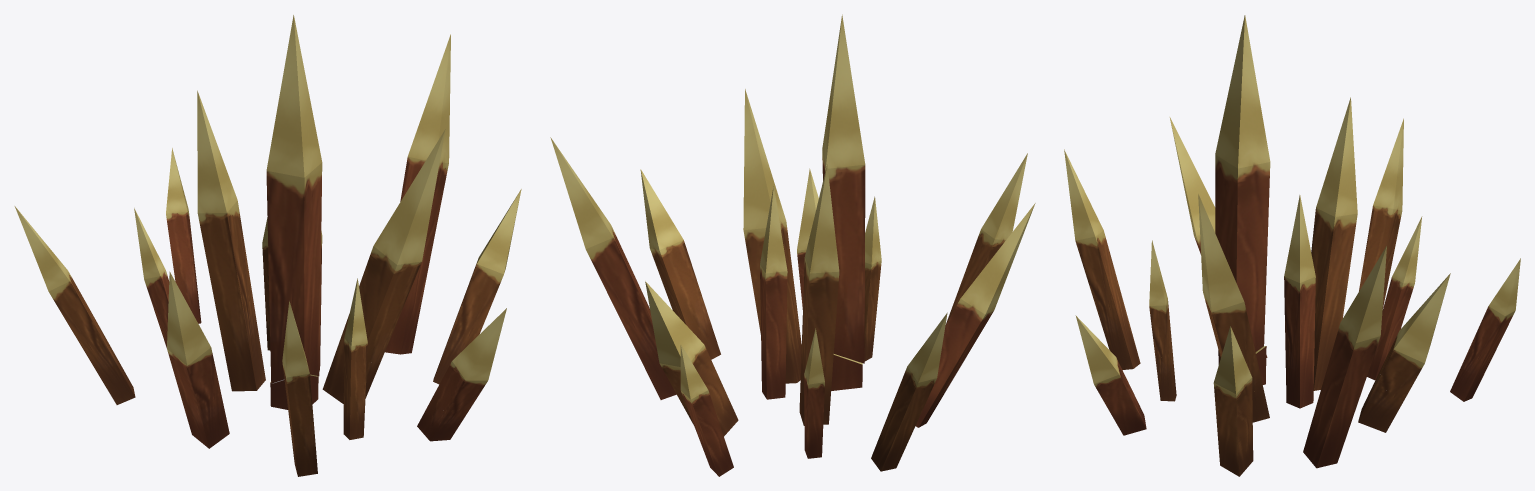
File: stfStakesCrush.FBX
The picture shows the model from 3 angles, left to right: view 1: azimuth 30°, elevation 25°; view 2: azimuth 150°, elevation 25°; view 3: azimuth 270°, elevation 25°; orthographic projection. The views are drawn at different scales.
Visible parts, largest first — view 1: stfStakes_00, stfStakesRoot, stfStakes_01, stfStakes_06, stfStakes_10, stfStakes_05, stfStakes_13, stfStakes_07, stfStakes_02, stfStakes_04, stfStakes_12, stfStakes_03 (+1 smaller); view 2: stfStakesRoot, stfStakes_00, stfStakes_10, stfStakes_06, stfStakes_01, stfStakes_05, stfStakes_13, stfStakes_09, stfStakes_11, stfStakes_07, stfStakes_04, stfStakes_12 (+3 smaller); view 3: stfStakes_00, stfStakesRoot, stfStakes_06, stfStakes_10, stfStakes_01, stfStakes_04, stfStakes_09, stfStakes_13, stfStakes_11, stfStakes_07, stfStakes_02, stfStakes_12 (+3 smaller).
Boxes of the visible parts, x1,y1,x2,y2 form: stfStakes_00: (266, 15, 322, 383); stfStakesRoot: (94, 261, 464, 476); stfStakes_01: (334, 129, 445, 366); stfStakes_06: (197, 90, 257, 340); stfStakes_10: (400, 34, 450, 309); stfStakes_05: (167, 271, 219, 418); stfStakes_13: (445, 189, 521, 355); stfStakes_07: (14, 206, 105, 367); stfStakes_02: (429, 308, 506, 416); stfStakes_04: (282, 301, 315, 454); stfStakes_12: (166, 148, 194, 267); stfStakes_03: (344, 278, 367, 397); stfStakesRoot: (642, 296, 954, 476); stfStakes_00: (822, 14, 865, 363); stfStakes_10: (550, 137, 658, 361); stfStakes_06: (801, 164, 839, 377); stfStakes_01: (743, 89, 801, 348); stfStakes_05: (939, 203, 1035, 381); stfStakes_13: (640, 169, 710, 327); stfStakes_09: (760, 186, 787, 356); stfStakes_11: (645, 281, 719, 406); stfStakes_07: (887, 312, 947, 442); stfStakes_04: (947, 153, 1027, 320); stfStakes_12: (680, 344, 720, 431); stfStakes_00: (1215, 15, 1270, 351); stfStakesRoot: (1103, 282, 1497, 476); stfStakes_06: (1311, 97, 1357, 341); stfStakes_10: (1314, 245, 1386, 439); stfStakes_01: (1198, 194, 1264, 392); stfStakes_04: (1064, 149, 1129, 332); stfStakes_09: (1284, 195, 1315, 365); stfStakes_13: (1213, 326, 1252, 456); stfStakes_11: (1379, 273, 1450, 406); stfStakes_07: (1360, 118, 1403, 301); stfStakes_02: (1075, 315, 1134, 415); stfStakes_12: (1469, 258, 1520, 353).
Size of the model in its own units: 1.9 by 1.74 by 1.85.
